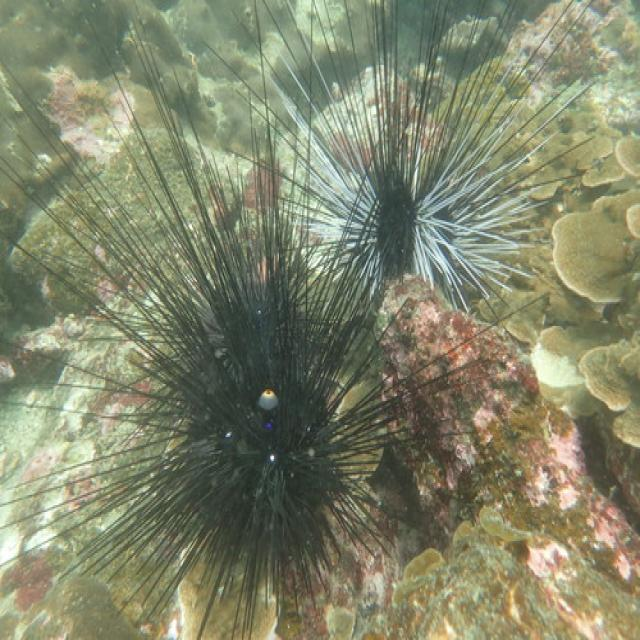Urchin: (42, 22, 361, 592), (201, 8, 573, 333)
